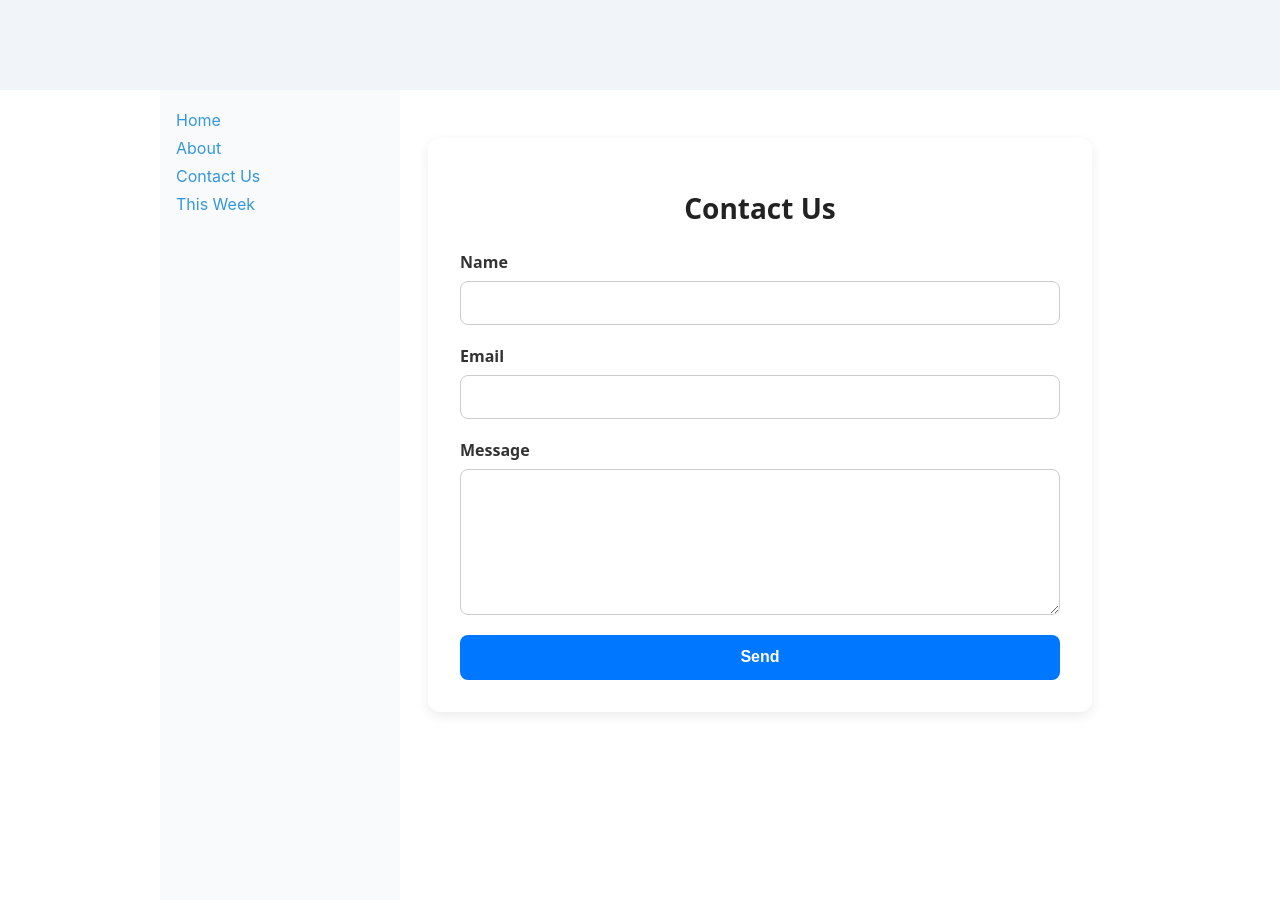
ContactUs Page › shows validation errors when submitting empty form
The width and height of the screenshot is (1280, 900).
Click the button "Send" at [760, 657], box [460,635,1060,680]
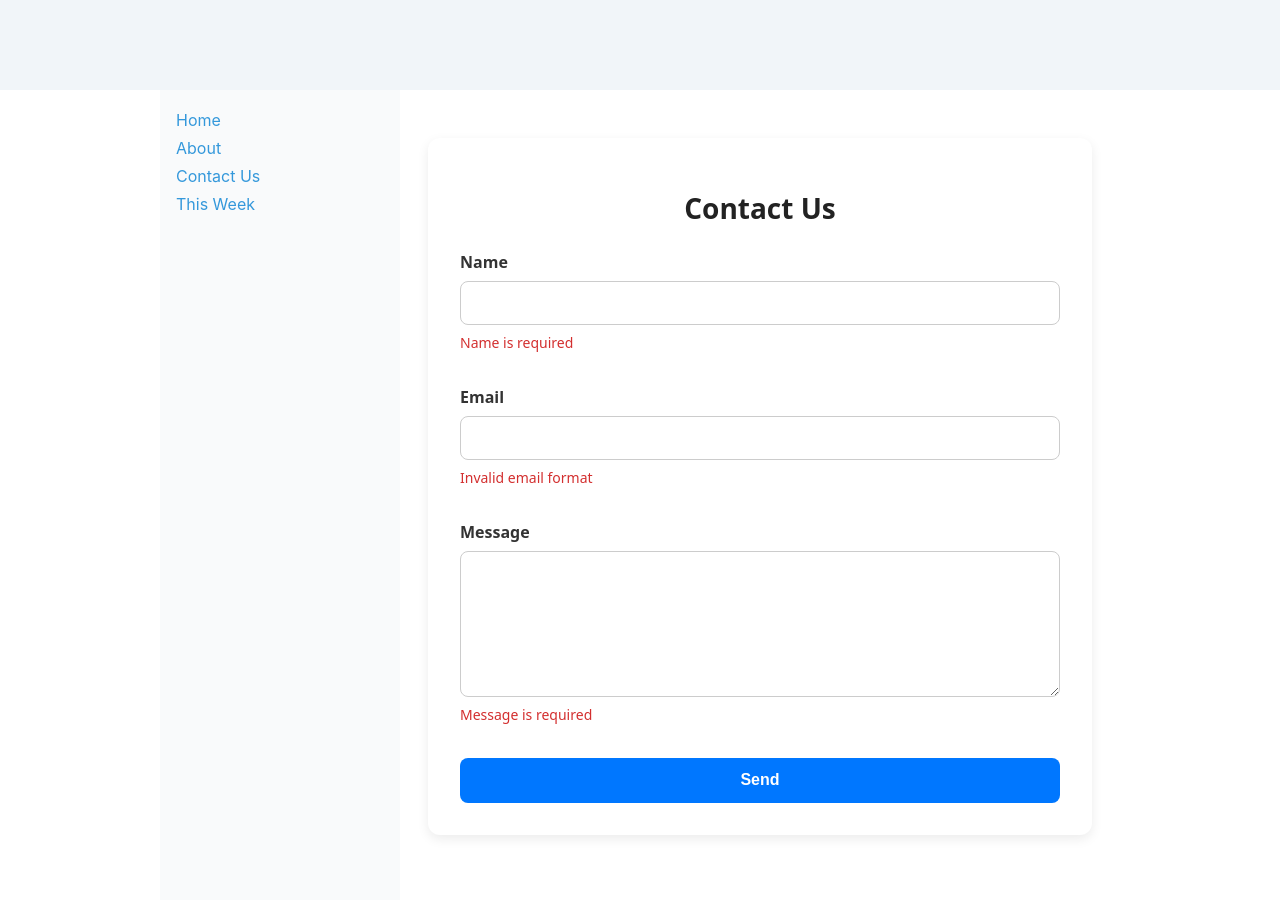
Expected: the text "Name is required" is shown, [460,333,573,352]
Expected: the text "Invalid email format" is shown, [460,468,593,487]
Expected: the text "Message is required" is shown, [460,705,592,724]
